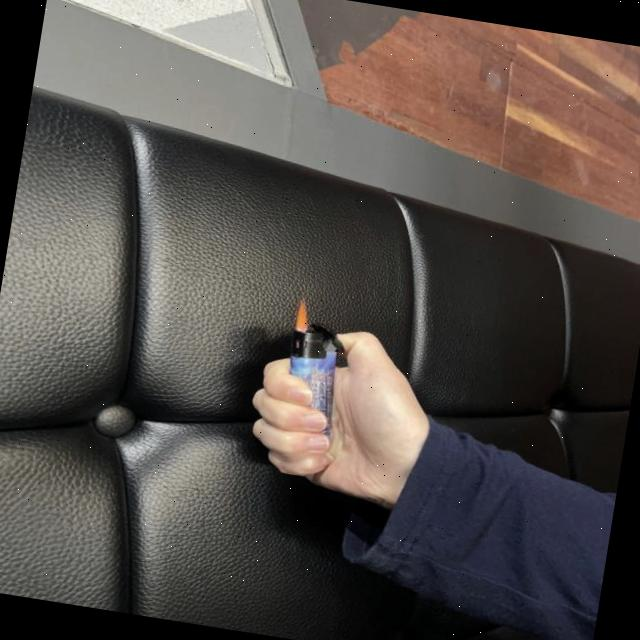fire: (296, 298, 316, 334)
